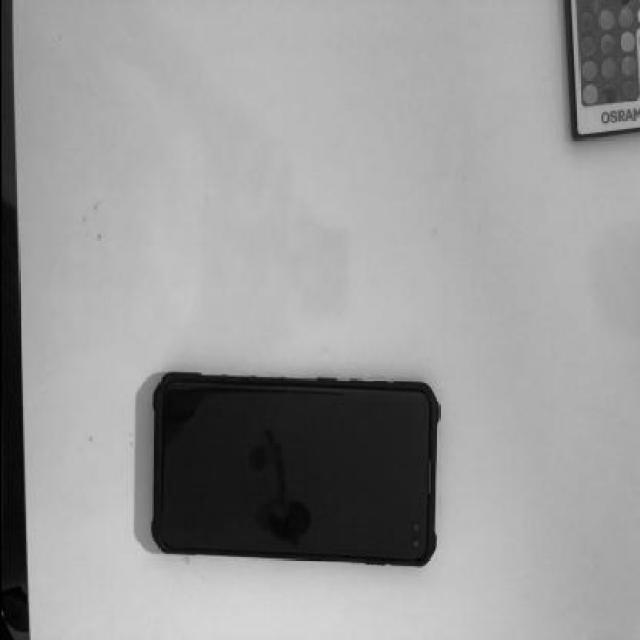fake: (152, 376, 440, 567)
